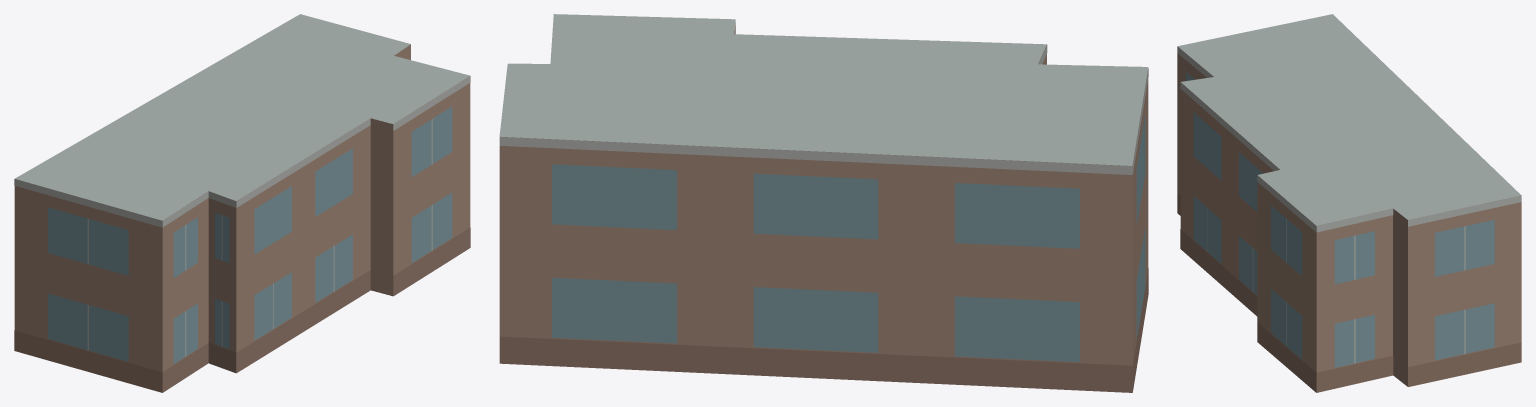
The model's file is survey-upis-33021986.glb.
The picture shows the model from 3 angles, left to right: view 1: azimuth 30°, elevation 25°; view 2: azimuth 150°, elevation 25°; view 3: azimuth 270°, elevation 25°; orthographic projection. The views are drawn at different scales.
Visible parts, largest first — view 1: survey-upis-33021986.tmp; view 2: survey-upis-33021986.tmp; view 3: survey-upis-33021986.tmp.
Boxes of the visible parts, <box> form: survey-upis-33021986.tmp: <box>14,14,470,392</box>; survey-upis-33021986.tmp: <box>499,14,1148,392</box>; survey-upis-33021986.tmp: <box>1177,14,1521,392</box>.
Size of the model in its own units: 16.61 by 6.1 by 11.41.
